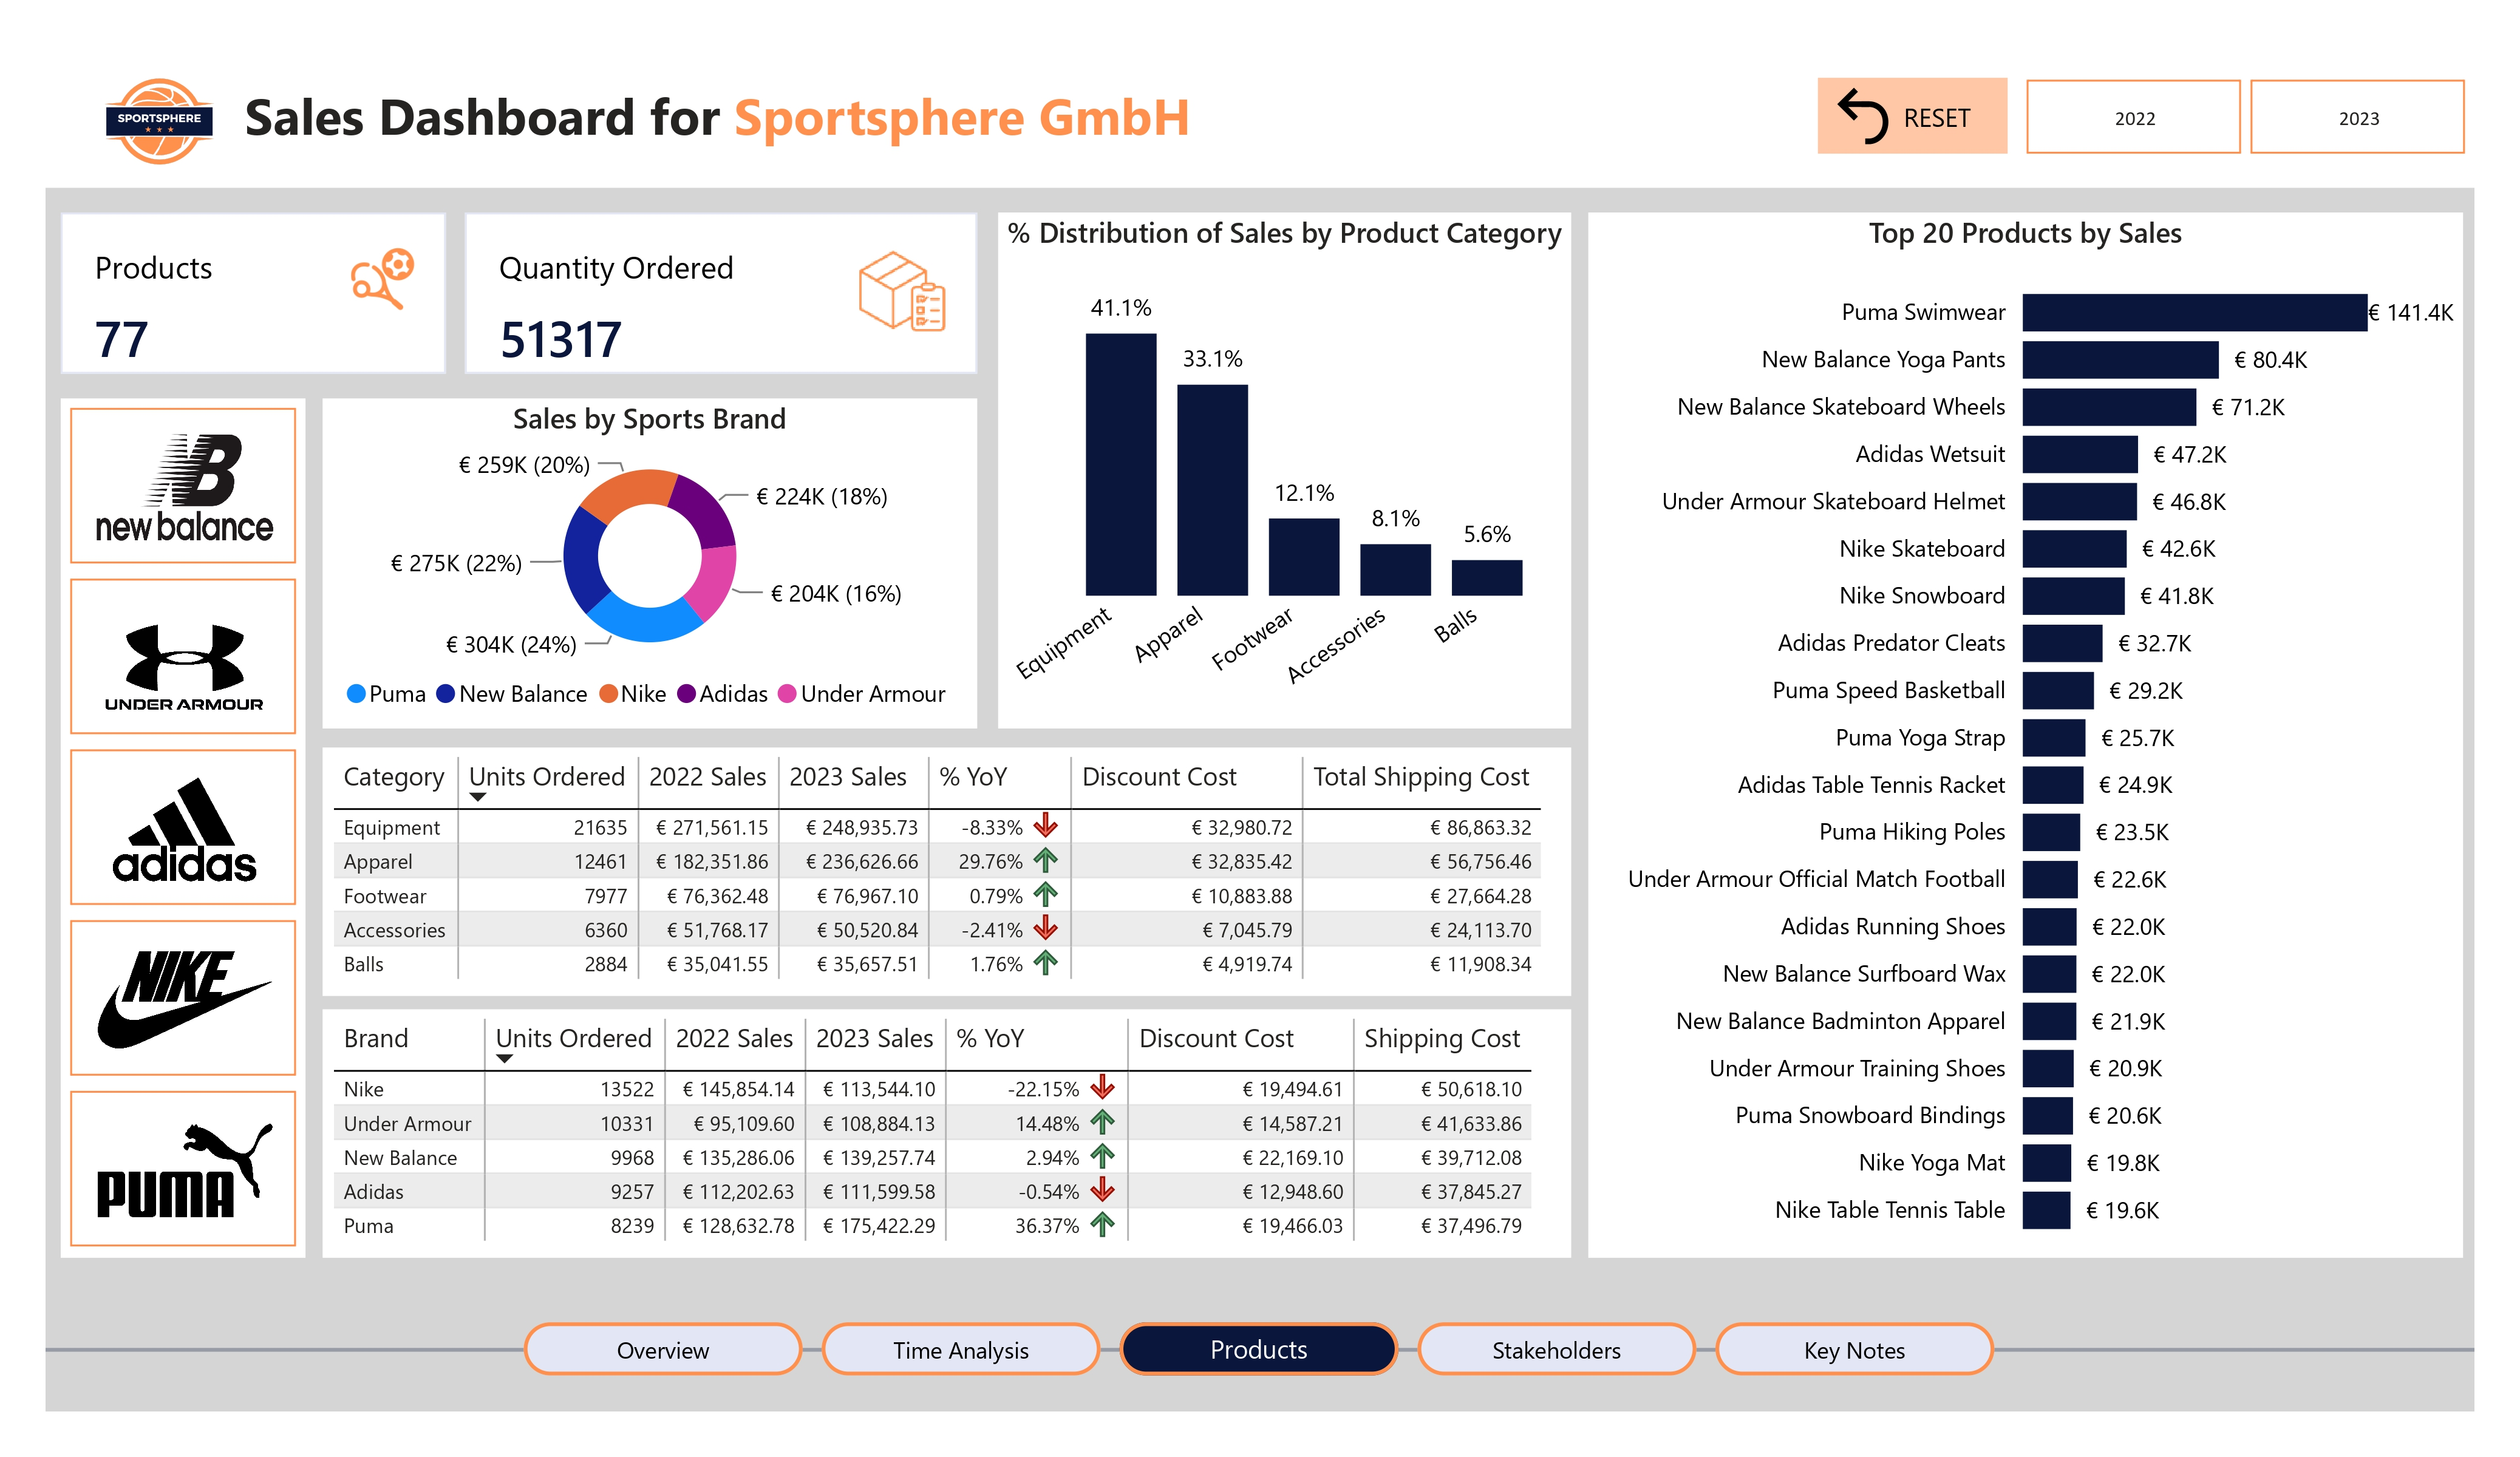

The dashboard page shown, as its layout file describes it:
{"tool":"powerbi","page":{"name":"Products","canvas":[1280,720],"ordinal":2},"visuals":[{"type":"shape","box":[0,667.3,1280,40.9],"z":0},{"type":"shape","box":[0,0,1280,74.9],"z":1000},{"type":"image","box":[0,4.9,119.6,70],"z":2000},{"type":"textbox","box":[100.2,12.6,536.9,54.5],"z":3000},{"type":"cardVisual","fields":{"Data":["orders.Total Products"]},"box":[7.8,87.5,203.3,85.6],"z":4000},{"type":"columnChart","title":"% Distribution of Sales by Product Category","fields":{"Y":["orders.Total Sales"],"Category":["products.Category"]},"box":[501.9,87.5,302.5,272.3],"z":5000},{"type":"advancedSlicerVisual","fields":{"Values":["Calendar.Year"]},"box":[1038.8,12.6,241.2,49.6],"z":6000},{"type":"pageNavigator","box":[252.4,673.1,775.2,28.2],"z":7000},{"type":"advancedSlicerVisual","fields":{"Values":["Brand Logos.Logo URL"]},"box":[7.8,185.8,129.4,453.3],"z":8000},{"type":"clusteredBarChart","title":"Top 20 Products by Sales","fields":{"Y":["orders.Total Sales"],"Category":["products.Product Name"]},"box":[813,88,461,551],"z":9000},{"type":"cardVisual","fields":{"Data":["orders.Total Units Ordered"]},"box":[220.8,87.5,270.4,85.6],"z":10000},{"type":"tableEx","fields":{"Values":["products.Brand","orders.Total Units Ordered","orders.2022 Sales","orders.2023 Sales","orders.% YoY Variance","orders.Discount Cost","orders.Total Shipping Cost"]},"box":[145.9,507.7,658.5,131.3],"z":11000},{"type":"tableEx","fields":{"Values":["products.Category","orders.Total Units Ordered","orders.2022 Sales","orders.2023 Sales","orders.% YoY Variance","orders.Discount Cost","orders.Total Shipping Cost"]},"box":[145.9,369.6,658.5,131.3],"z":12000},{"type":"donutChart","title":"Sales by Sports Brand","fields":{"Category":["products.Brand"],"Y":["orders.Total Sales"]},"box":[145.9,185.8,345.3,174.1],"z":13000},{"type":"actionButton","box":[934,17,100,40],"z":14000}]}

Visuals, with their boxes on the page's 1280x720 design canvas (x1, y1, x2, y2). These are canvas units, not pixel positions in the 2520x1457 screenshot, which may show the page scaled, cropped or inside an application window:
shape: {"left": 0, "top": 667, "right": 1280, "bottom": 708}
shape: {"left": 0, "top": 0, "right": 1280, "bottom": 75}
image: {"left": 0, "top": 5, "right": 120, "bottom": 75}
textbox: {"left": 100, "top": 13, "right": 637, "bottom": 67}
cardVisual - orders.Total Products: {"left": 8, "top": 88, "right": 211, "bottom": 173}
"% Distribution of Sales by Product Category" columnChart: {"left": 502, "top": 88, "right": 804, "bottom": 360}
advancedSlicerVisual - Calendar.Year: {"left": 1039, "top": 13, "right": 1280, "bottom": 62}
pageNavigator: {"left": 252, "top": 673, "right": 1028, "bottom": 701}
advancedSlicerVisual - Brand Logos.Logo URL: {"left": 8, "top": 186, "right": 137, "bottom": 639}
"Top 20 Products by Sales" clusteredBarChart: {"left": 813, "top": 88, "right": 1274, "bottom": 639}
cardVisual - orders.Total Units Ordered: {"left": 221, "top": 88, "right": 491, "bottom": 173}
tableEx - products.Brand x orders.Total Units Ordered: {"left": 146, "top": 508, "right": 804, "bottom": 639}
tableEx - products.Category x orders.Total Units Ordered: {"left": 146, "top": 370, "right": 804, "bottom": 501}
"Sales by Sports Brand" donutChart: {"left": 146, "top": 186, "right": 491, "bottom": 360}
actionButton: {"left": 934, "top": 17, "right": 1034, "bottom": 57}
